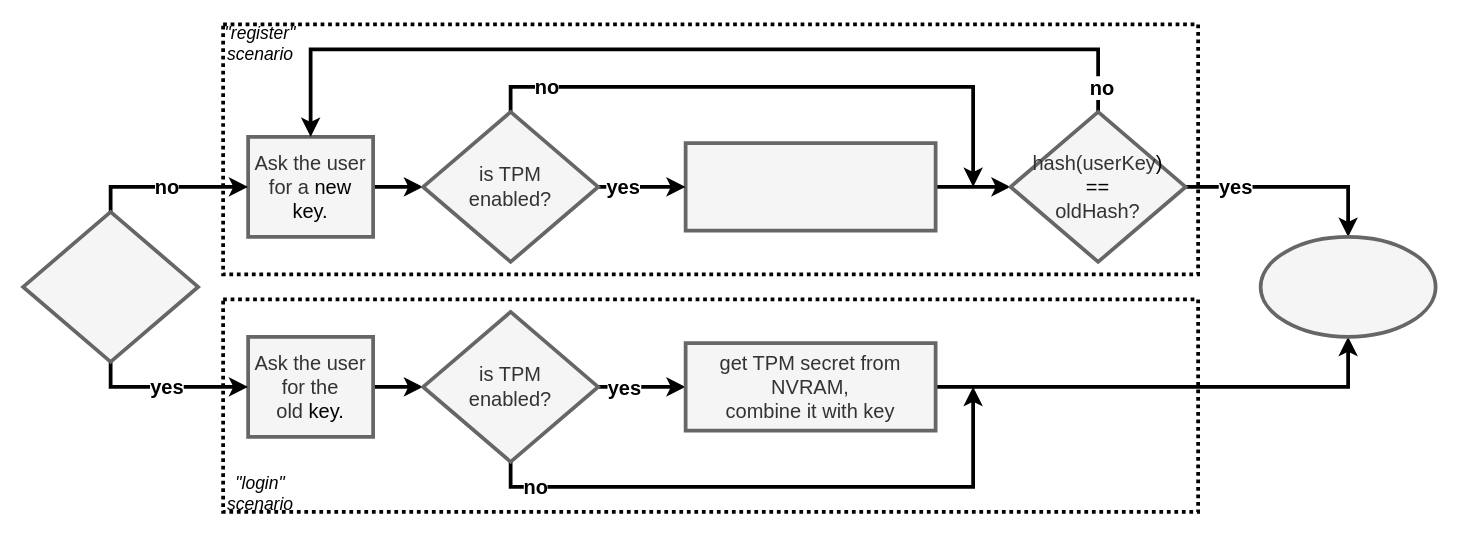
This 1459x535 diagram has some shape labels left out. Here are the shapes that lost their labels. From the top down, the centre of each, then its label:
[810,186]: generate TPM secret, store in TPM NVRAM, combine it with key
[110,286]: Is there a hash of an old key?
[1347,286]: Key to use in current session
